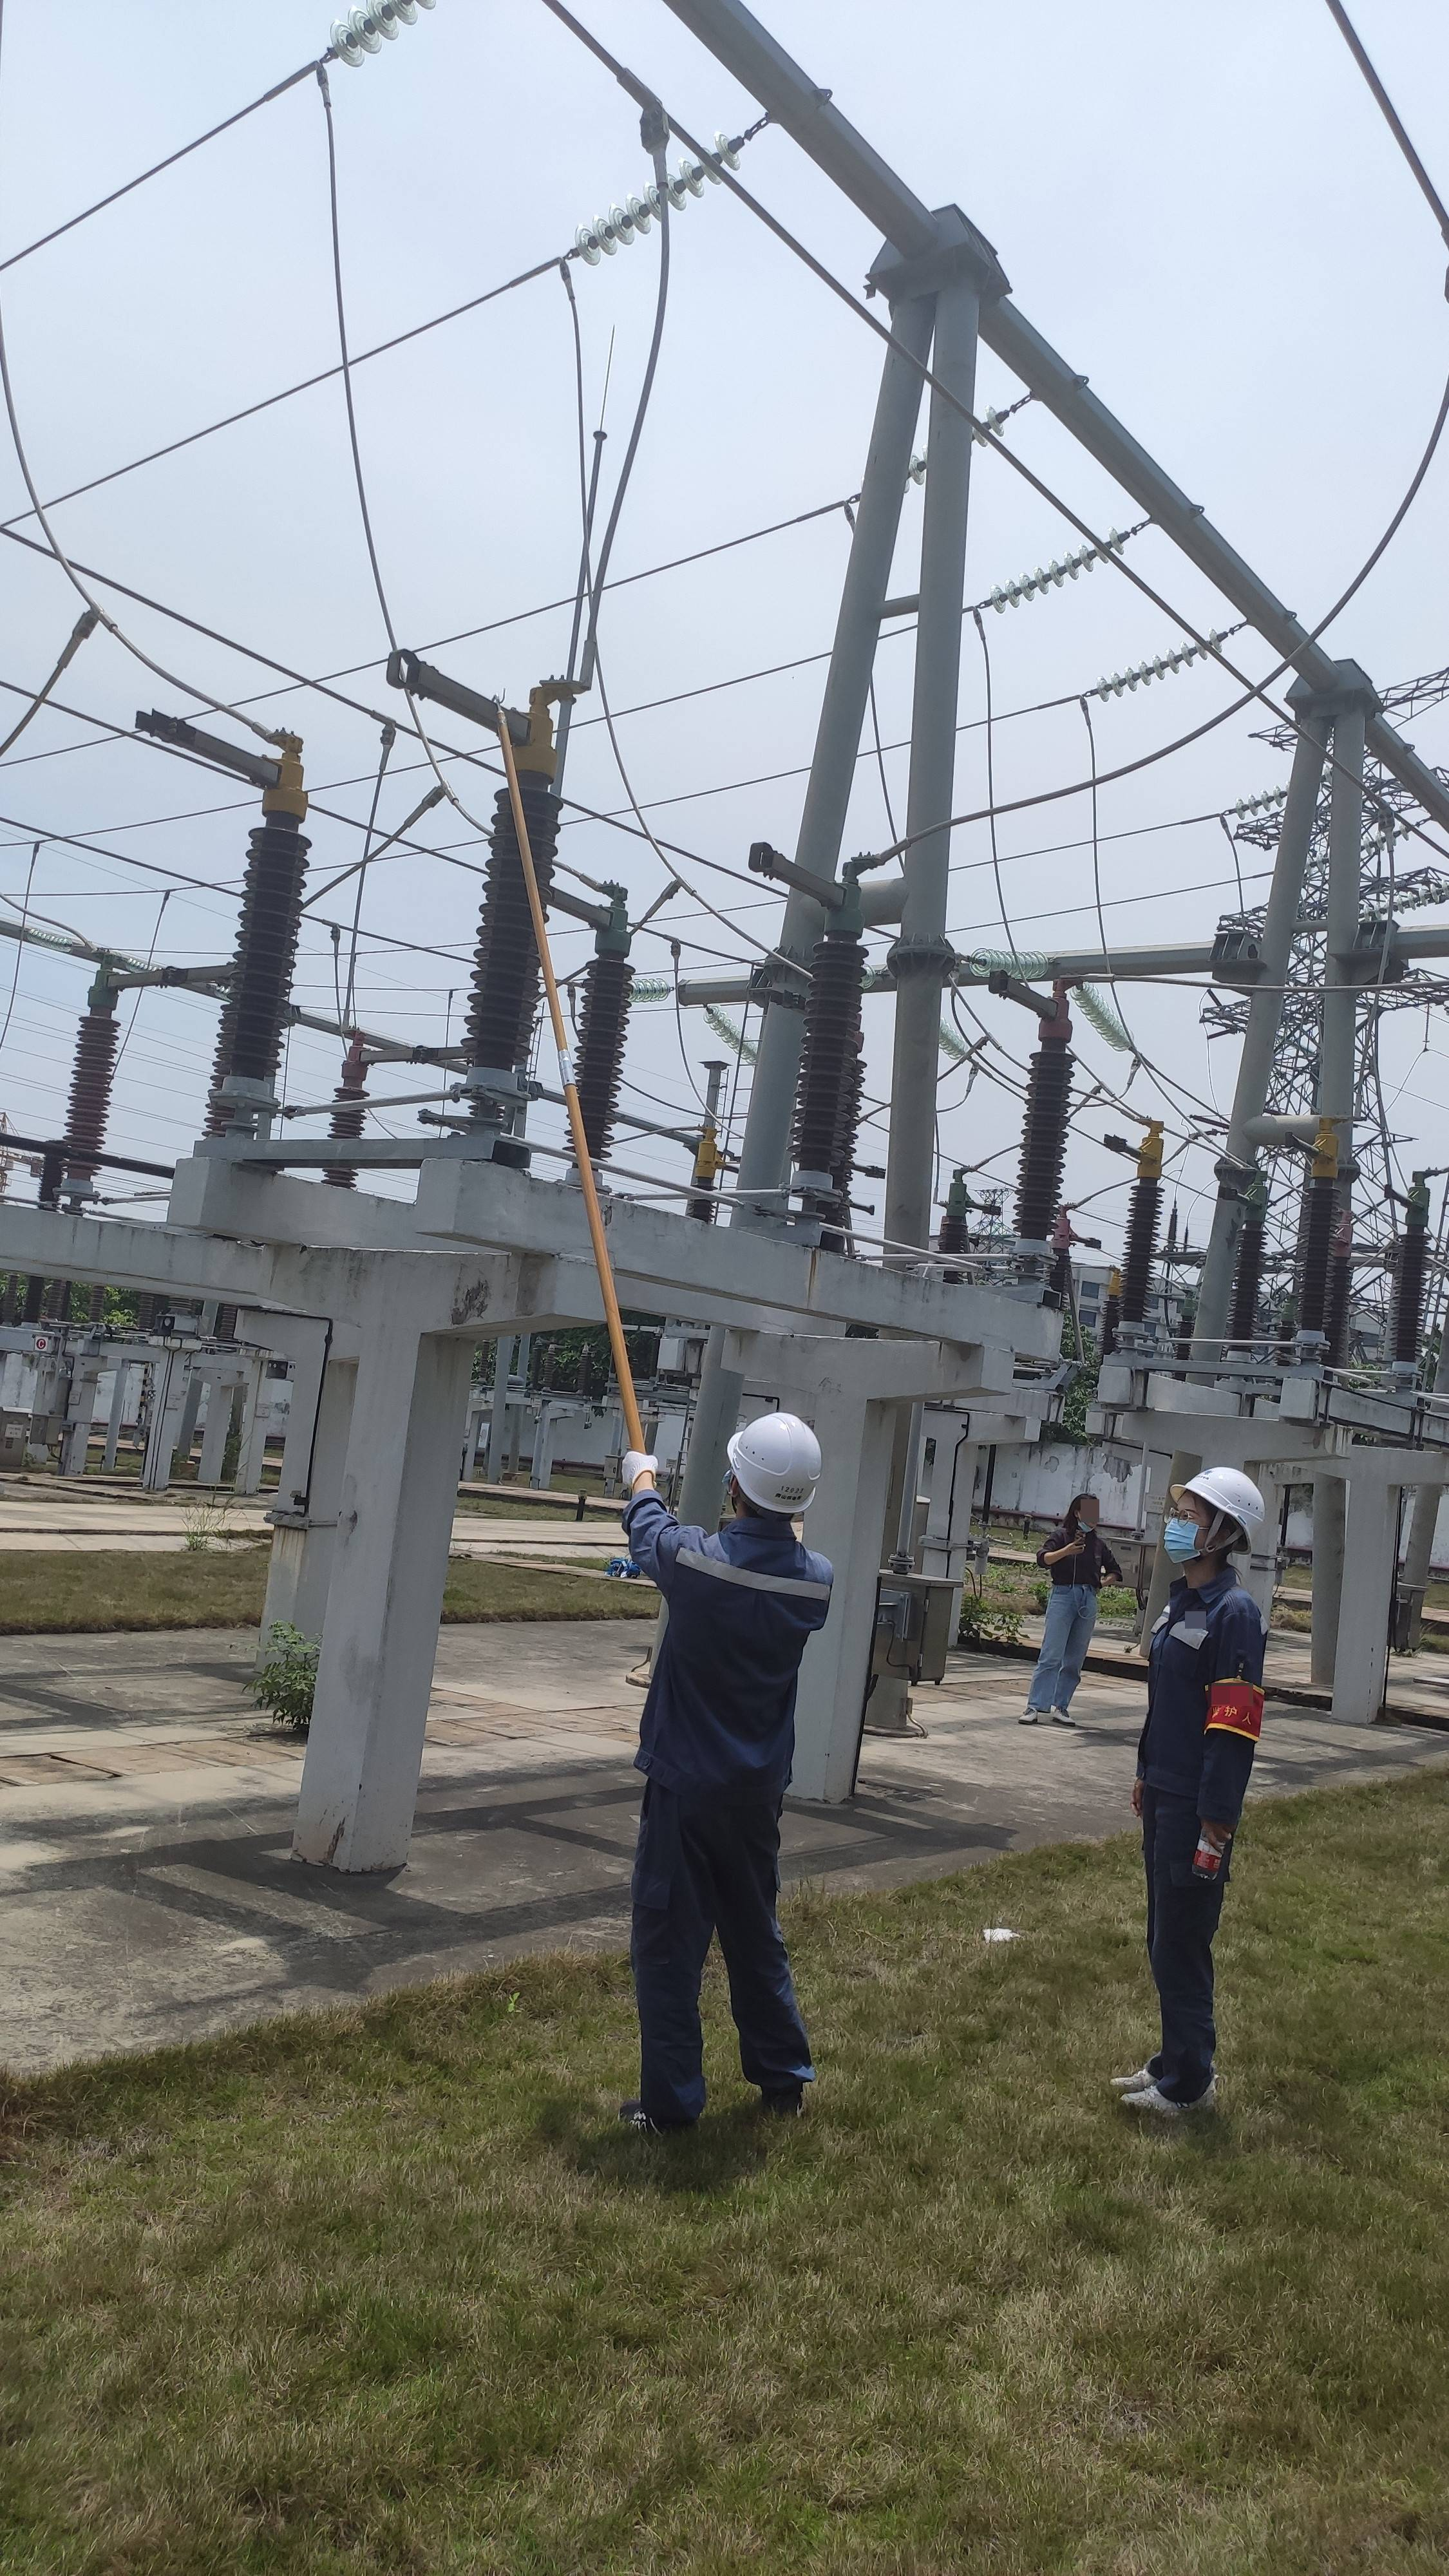downcloth: (1030, 1583, 1100, 1713)
downsuit: (630, 1812, 817, 2102), (1132, 1783, 1253, 2086)
upcloth: (1039, 1529, 1122, 1589)
upsuit: (623, 1520, 837, 1806), (1136, 1580, 1267, 1778)
wrongtop: (632, 1468, 660, 1500)
